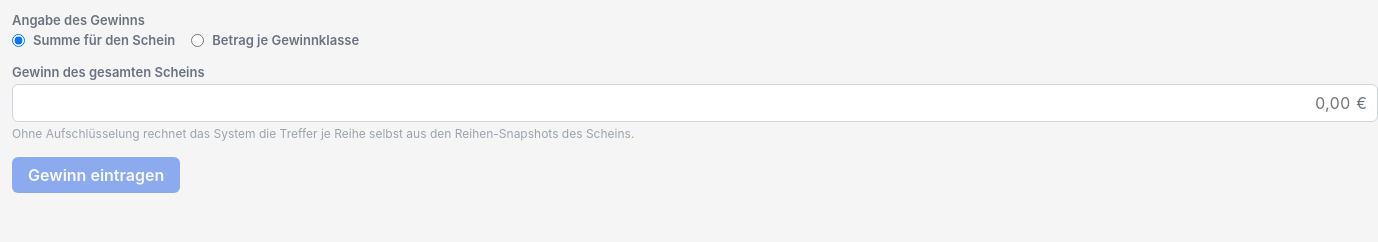
Test case: WinningsEntry › multiplies by the rows of the class for the running total
The image size is (1378, 242).
Step 1. Click the radio button labelled "Betrag je Gewinnklasse" → point(198, 40), box top-left (191, 34), bottom-right (204, 46)
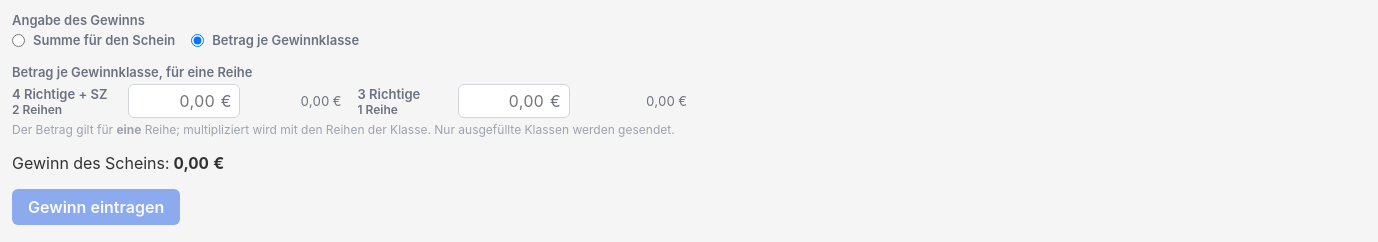
Step 2. Type "12,30" into the field labelled "4 Richtige + SZ 2 Reihen" → point(176, 101), box top-left (138, 91), bottom-right (215, 111)
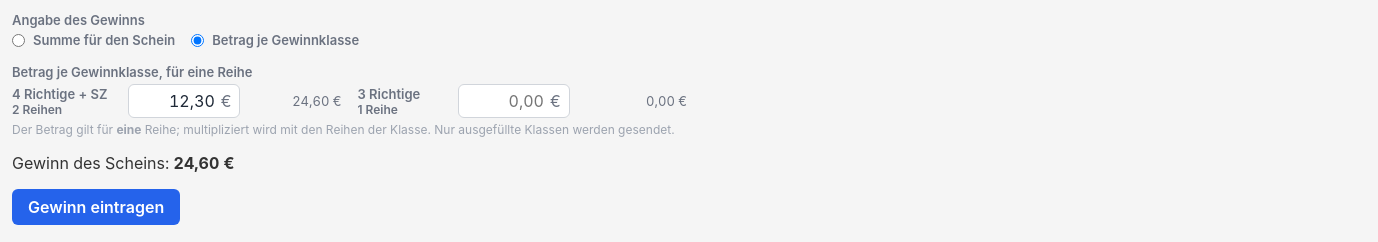
Step 3. Type "5,00" into the field labelled "3 Richtige 1 Reihe" → point(505, 101), box top-left (467, 91), bottom-right (544, 111)
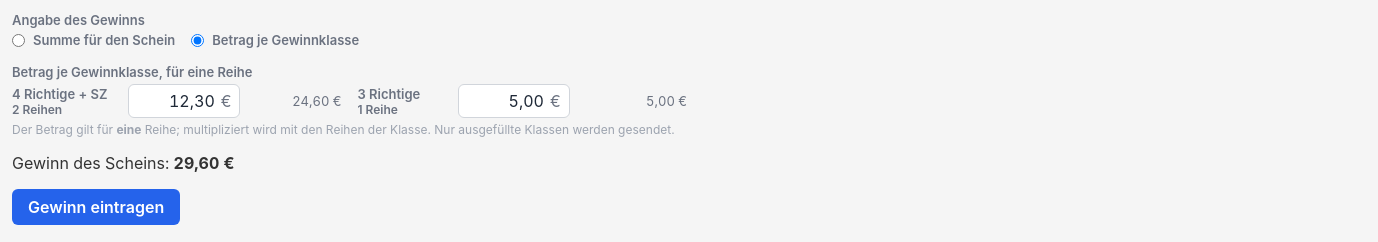
Expected: the text "29,60" is shown, top-left (174, 153), bottom-right (234, 173)
